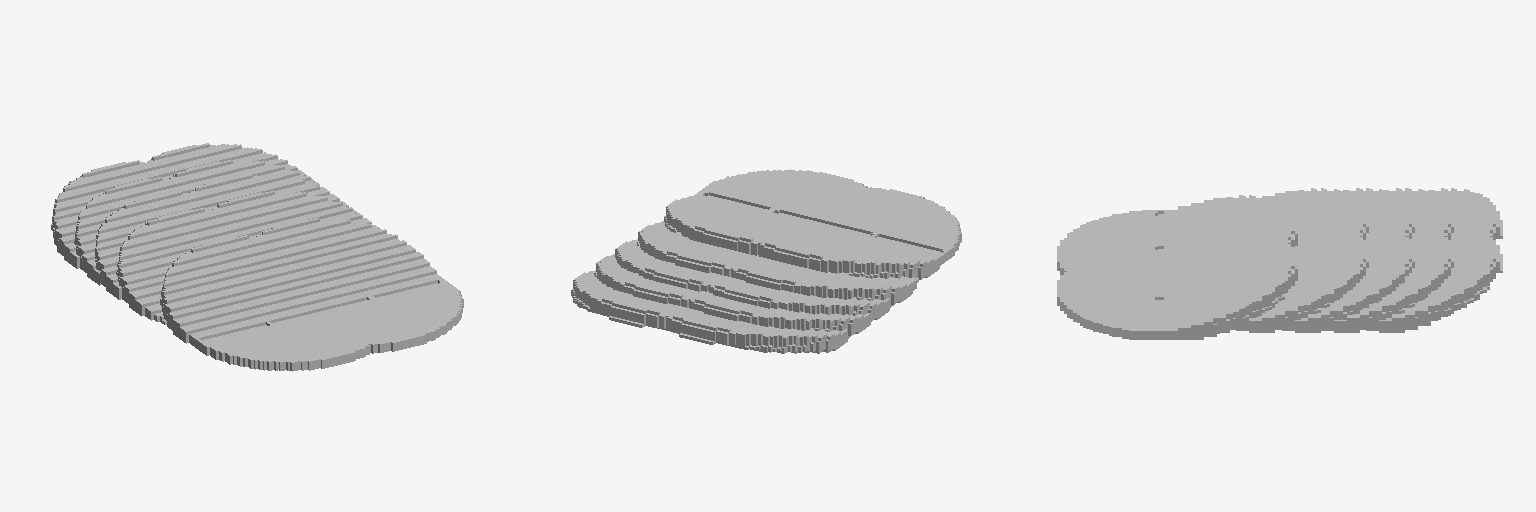
File: TomateCortado.obj
3 renders of one model, left to right at view 1: azimuth 30°, elevation 25°; view 2: azimuth 150°, elevation 25°; view 3: azimuth 270°, elevation 25°, orthographic.
Parts seen in each view (by area): view 1: object 1; view 2: object 1; view 3: object 1.
Boxes of the visible parts, x1,y1,x2,y2 form: object 1: [51, 143, 463, 371]; object 1: [571, 169, 961, 353]; object 1: [1057, 188, 1502, 339].
Bounding box in the file's own units: 9.2 × 1.4 × 13.7.